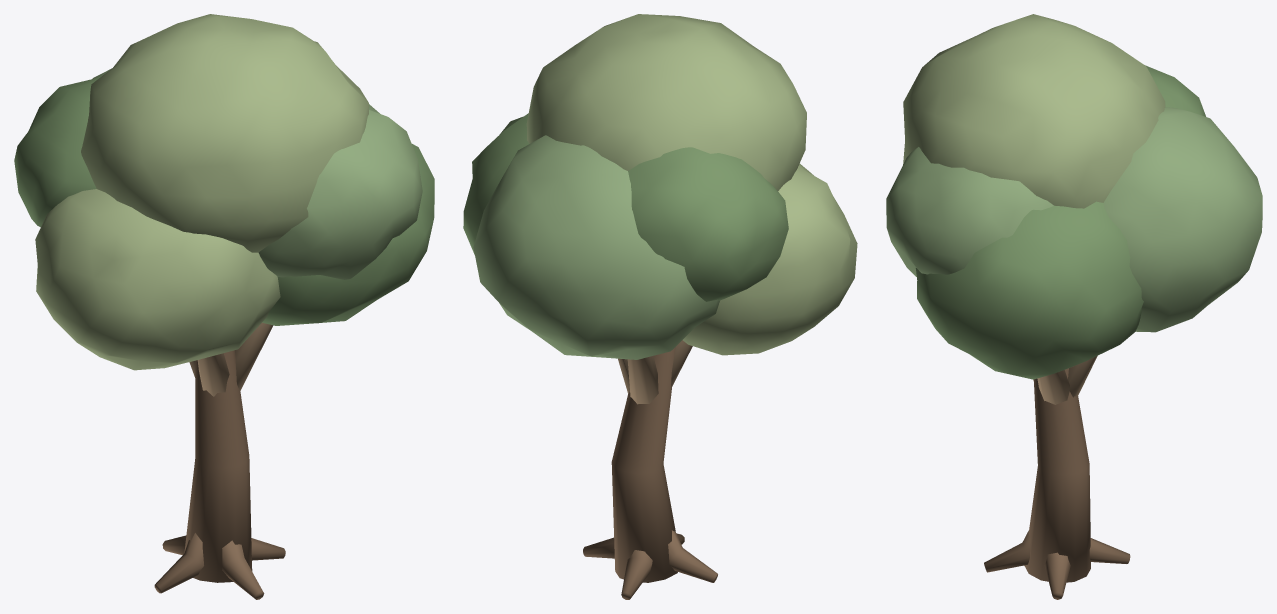
The model's file is SM_Broadleaf_2.fbx.
3 views of the same model, side by side, from view 1: azimuth 30°, elevation 25°; view 2: azimuth 150°, elevation 25°; view 3: azimuth 270°, elevation 25° (orthographic). The views are drawn at different scales.
Visible parts, largest first — view 1: SM_Broadleaf_2; view 2: SM_Broadleaf_2; view 3: SM_Broadleaf_2.
Boxes of the visible parts, x1,y1,x2,y2 form: SM_Broadleaf_2: [14, 14, 434, 599]; SM_Broadleaf_2: [463, 14, 857, 599]; SM_Broadleaf_2: [886, 14, 1262, 599].
Size of the model in its own units: 542 by 495 by 774.
